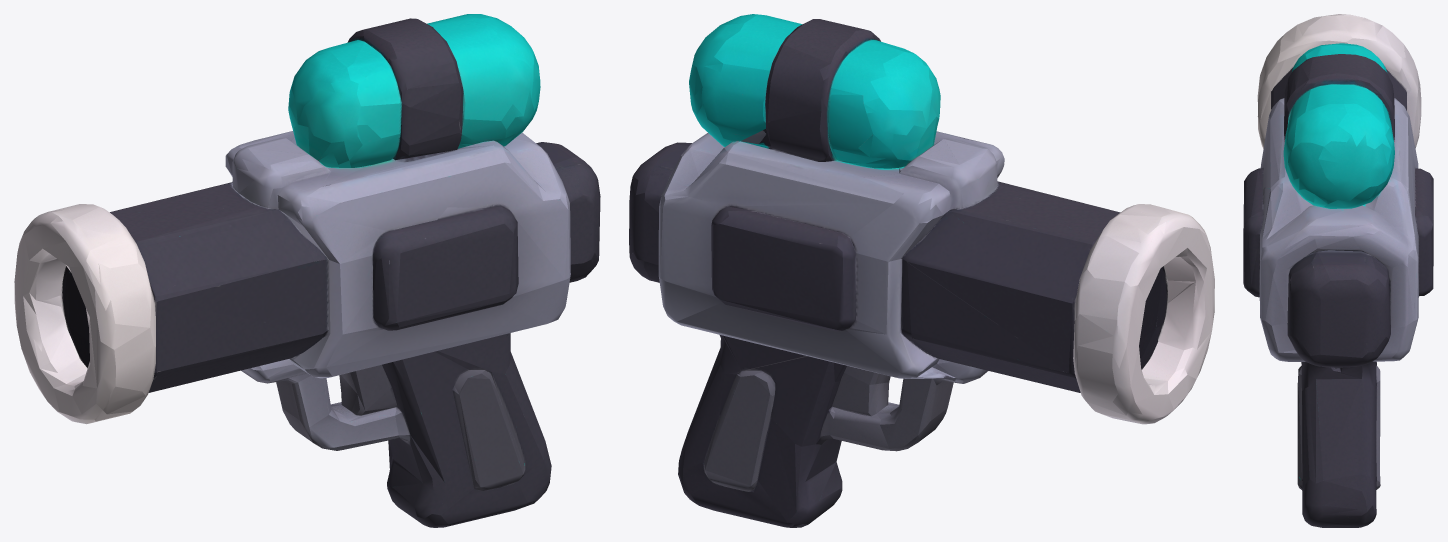
File: kalle_waffe_reduziert.glb
3 renders of one model, left to right at view 1: azimuth 30°, elevation 25°; view 2: azimuth 150°, elevation 25°; view 3: azimuth 270°, elevation 25°, orthographic. The views are drawn at different scales.
Parts seen in each view (by area): view 1: output_unwrapped; view 2: output_unwrapped; view 3: output_unwrapped.
Part boxes in pixels (x1,y1,x2,y2): output_unwrapped: (14, 14, 600, 527); output_unwrapped: (629, 14, 1214, 527); output_unwrapped: (1243, 14, 1433, 527).
Bounding box in the file's own units: 1.9 × 1.7 × 0.6989.
1 material, 1 textured.
